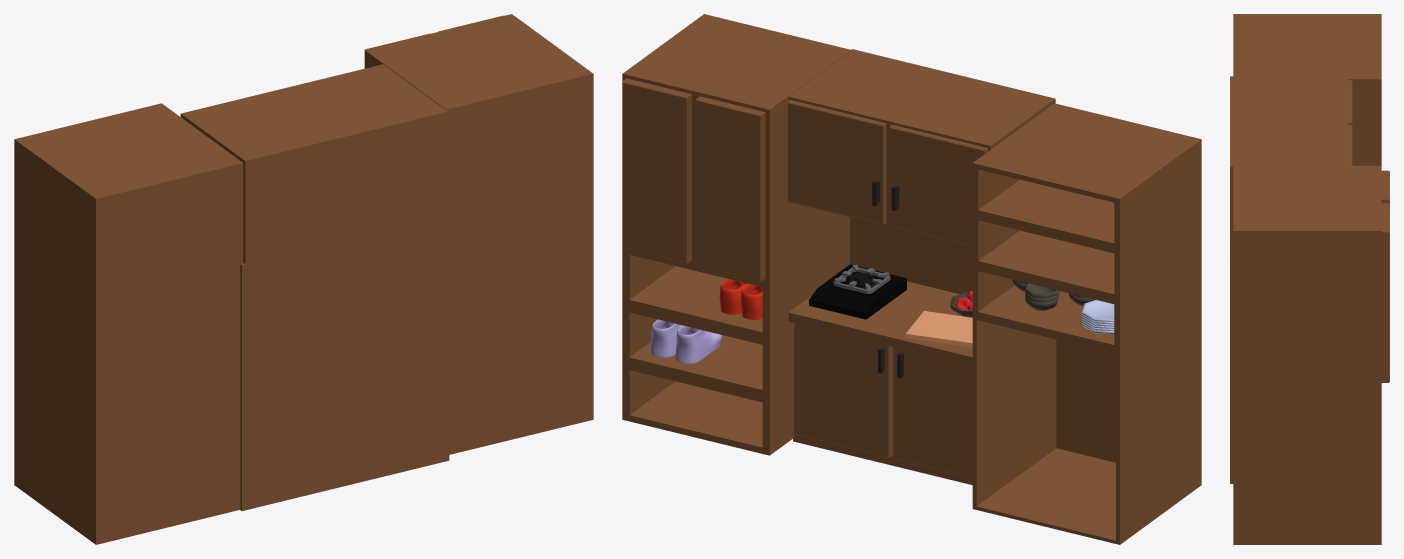
Rendered from kitchen area.fbx.
3 views of the same model, side by side, from view 1: azimuth 30°, elevation 25°; view 2: azimuth 150°, elevation 25°; view 3: azimuth 270°, elevation 25° (orthographic). The views are drawn at different scales.
Parts seen in each view (by area): view 1: Cube.008, Cube.006, Cube.007, Cube.028; view 2: Cube.008, Cube.006, Cube.007, Cube.028, Cube.039, Plane.015, Cube.041, Plane.009, Sphere.008, Cube.018, Sphere.011; view 3: Cube.006, Cube.008, Cube.028, Cube.007.
Part boxes in pixels (bbox=[...]): Cube.008: bbox=[14, 103, 243, 544]; Cube.006: bbox=[364, 14, 593, 454]; Cube.007: bbox=[240, 215, 449, 510]; Cube.028: bbox=[180, 64, 448, 265]; Cube.008: bbox=[972, 103, 1201, 544]; Cube.006: bbox=[622, 14, 851, 455]; Cube.007: bbox=[788, 217, 972, 484]; Cube.028: bbox=[788, 49, 1055, 246]; Cube.039: bbox=[809, 264, 906, 319]; Plane.015: bbox=[650, 319, 722, 363]; Cube.041: bbox=[905, 311, 972, 347]; Plane.009: bbox=[719, 279, 762, 319]; Sphere.008: bbox=[1081, 300, 1114, 334]; Cube.018: bbox=[833, 264, 890, 293]; Sphere.011: bbox=[1025, 283, 1059, 310]; Cube.006: bbox=[1233, 165, 1389, 544]; Cube.008: bbox=[1233, 14, 1381, 165]; Cube.028: bbox=[1230, 76, 1352, 260]; Cube.007: bbox=[1230, 260, 1233, 483].
Bounding box in the file's own units: 293 × 197 × 89.95.
